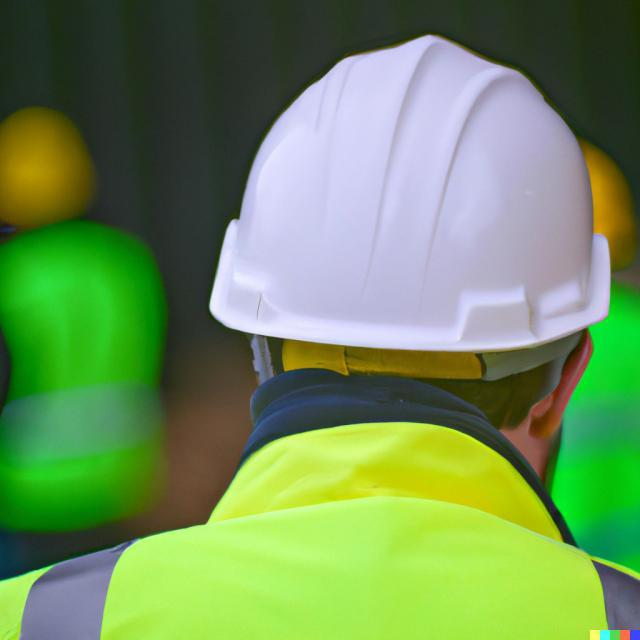reflective_jacket: (12, 417, 639, 636)
safety_helmet: (200, 30, 615, 361), (0, 103, 109, 242)
